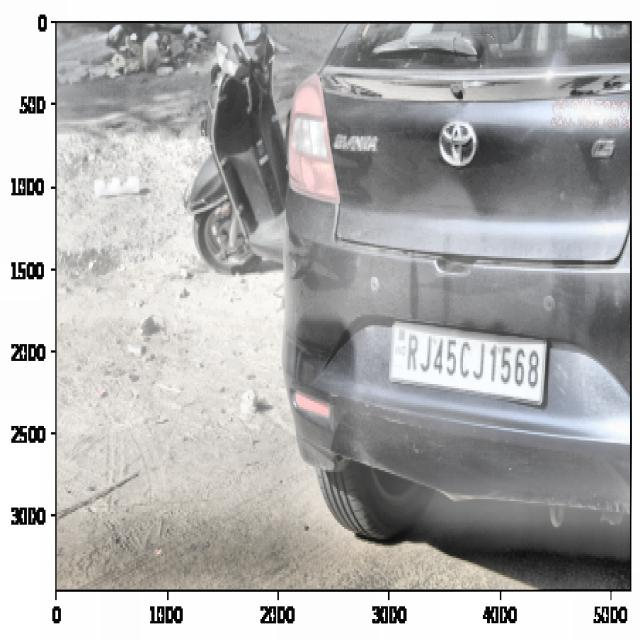license_plate: (400, 325, 543, 398)
